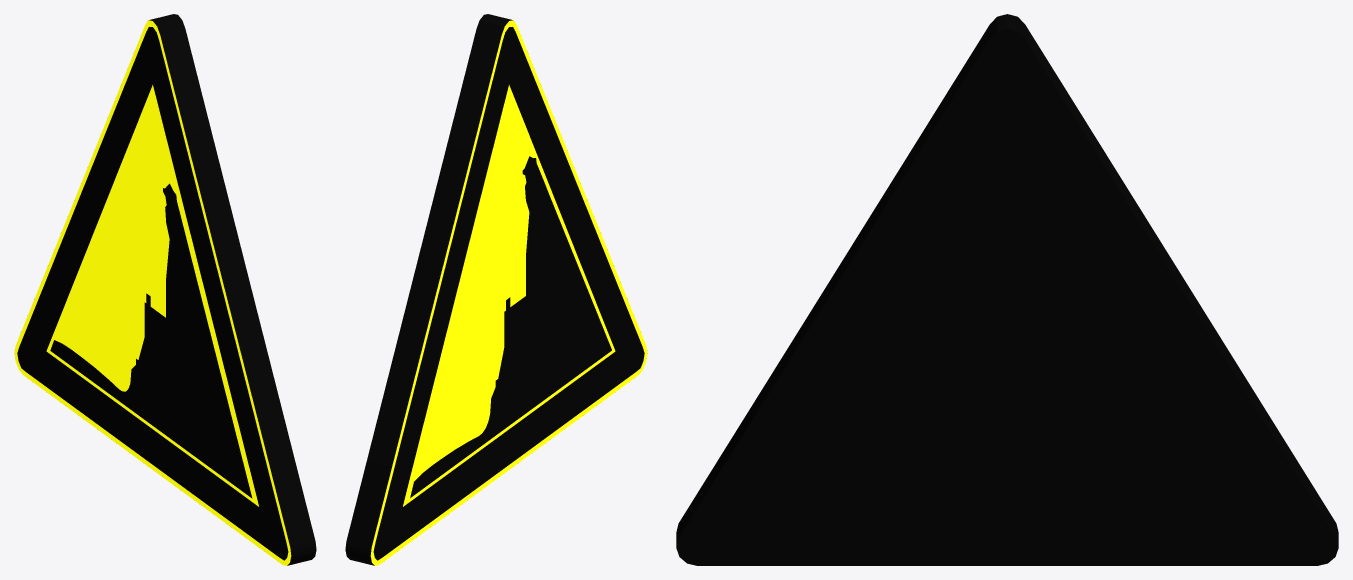
File: Mountain_DropOff_Right.glb
3 renders of one model, left to right at view 1: azimuth 30°, elevation 25°; view 2: azimuth 150°, elevation 25°; view 3: azimuth 270°, elevation 25°, orthographic. The views are drawn at different scales.
Parts seen in each view (by area): view 1: Mountain_DropOff_Right; view 2: Mountain_DropOff_Right; view 3: Mountain_DropOff_Right.
Part boxes in pixels (<box>): Mountain_DropOff_Right: <box>14,14,316,565</box>; Mountain_DropOff_Right: <box>345,14,647,565</box>; Mountain_DropOff_Right: <box>676,14,1338,565</box>.
Bounding box in the file's own units: 0.0642 × 1.02 × 1.14.
